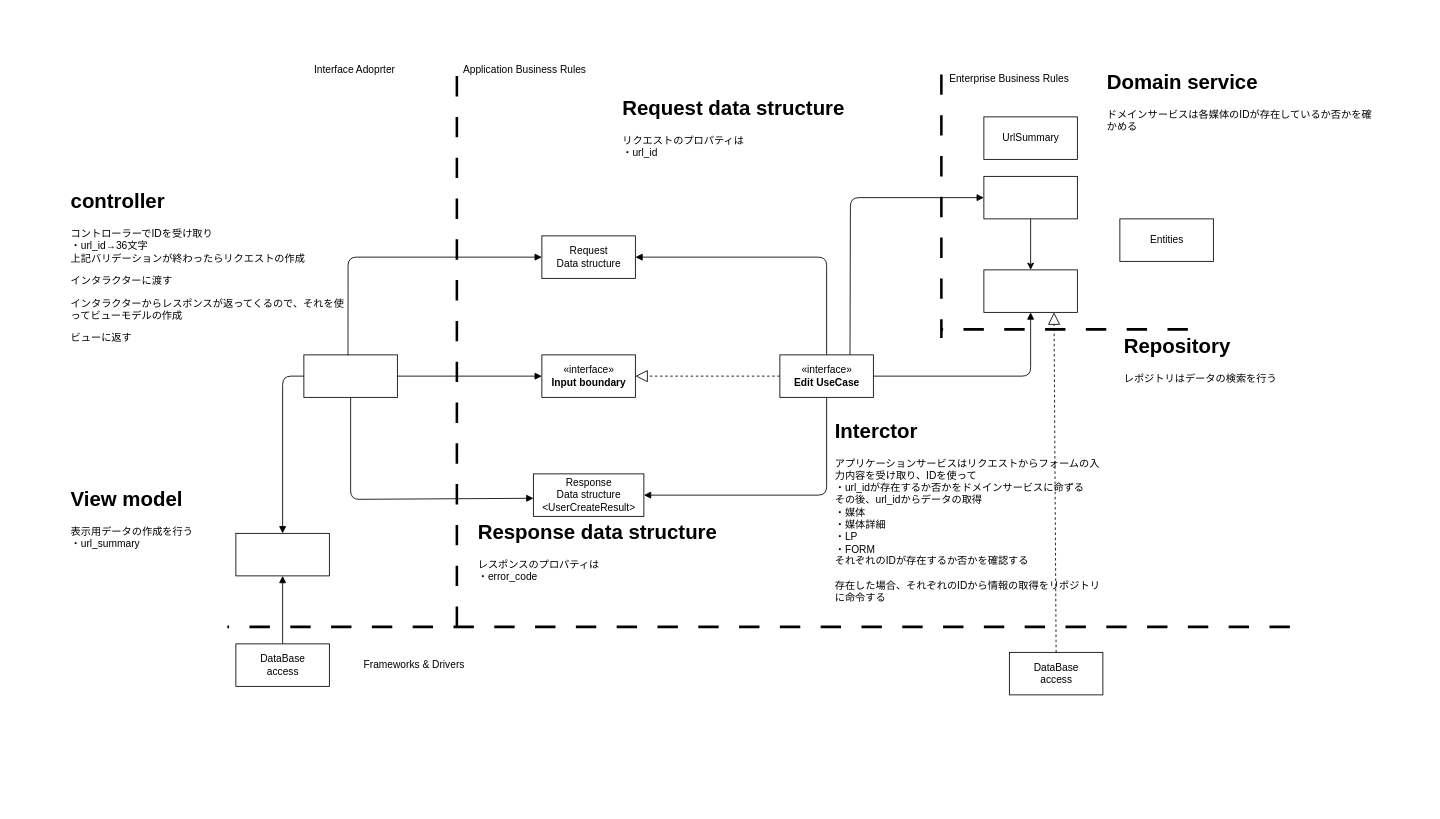
The diagram is 1440 pixels wide and 819 high, and some of its shapes have lost their labels. The shapes that lost their labels are listed below. From the top down, each one's centre as x and y in pixels, then its label:
(x=1030, y=197): Domain Service
(x=1030, y=290): «interface» Repository
(x=350, y=375): Controller
(x=282, y=554): ViewModel Data structure
